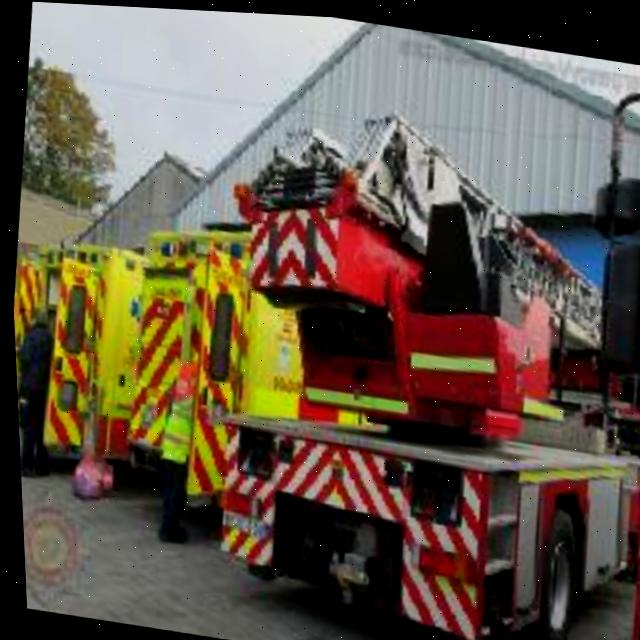emergency: (190, 132, 640, 640), (7, 212, 217, 509)
